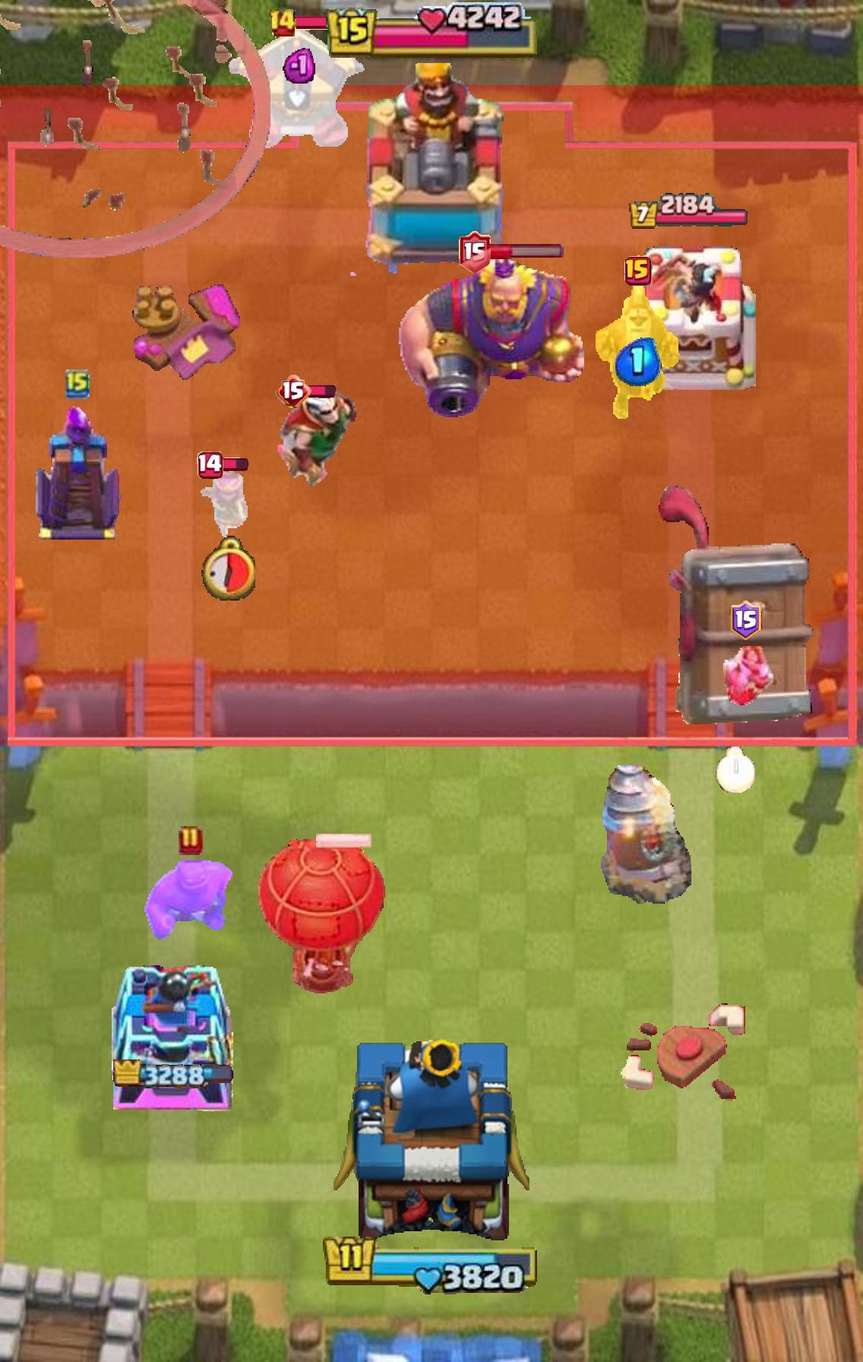bar: (487, 243, 564, 260), (316, 831, 372, 850), (293, 16, 345, 30), (220, 458, 248, 473), (308, 385, 337, 398)
bar-level: (459, 231, 491, 273), (730, 600, 762, 640), (275, 375, 311, 408), (268, 8, 297, 39), (624, 255, 652, 286), (196, 451, 223, 479), (179, 825, 203, 856)
